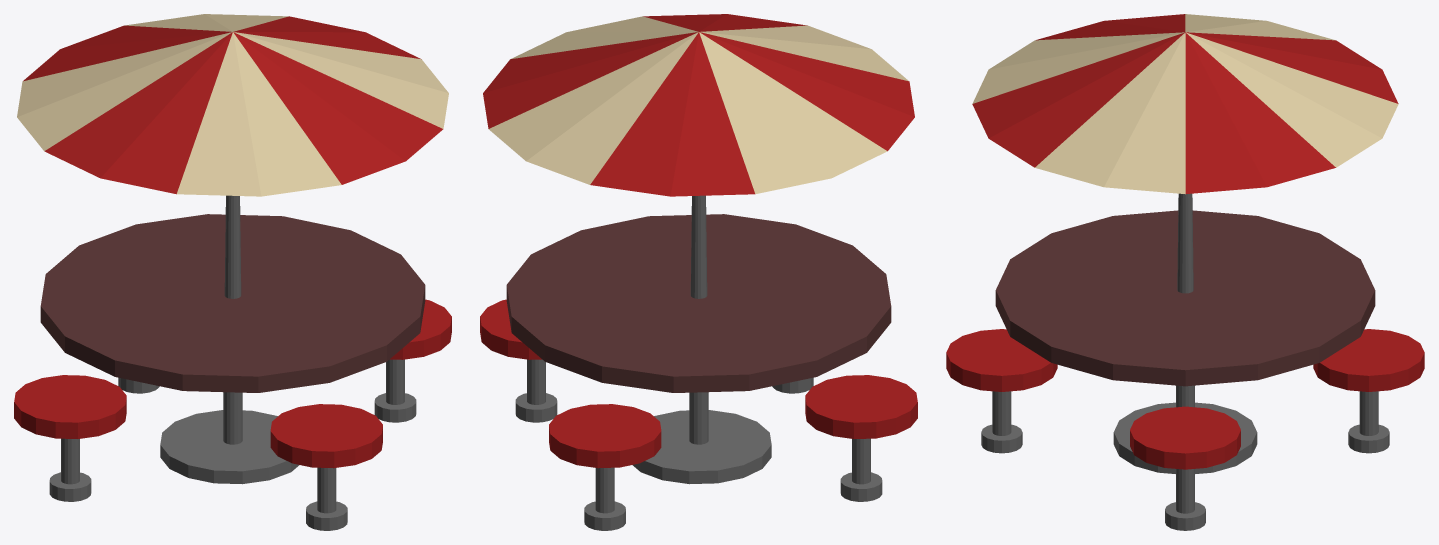
File: Outdoor_table.fbx
The picture shows the model from 3 angles, left to right: view 1: azimuth 30°, elevation 25°; view 2: azimuth 150°, elevation 25°; view 3: azimuth 270°, elevation 25°; orthographic projection. The views are drawn at different scales.
Parts seen in each view (by area): view 1: Circle.003, Circle, Circle.002; view 2: Circle.003, Circle, Circle.002; view 3: Circle.003, Circle, Circle.002.
Part boxes in pixels (x1,y1,x2,y2): Circle.003: [17, 14, 448, 298]; Circle: [40, 214, 425, 484]; Circle.002: [14, 299, 451, 530]; Circle.003: [483, 14, 914, 298]; Circle: [506, 214, 891, 484]; Circle.002: [480, 299, 917, 530]; Circle.003: [972, 14, 1398, 293]; Circle: [995, 210, 1375, 473]; Circle.002: [946, 329, 1424, 530].
Bounding box in the file's own units: 396 × 396 × 376.
